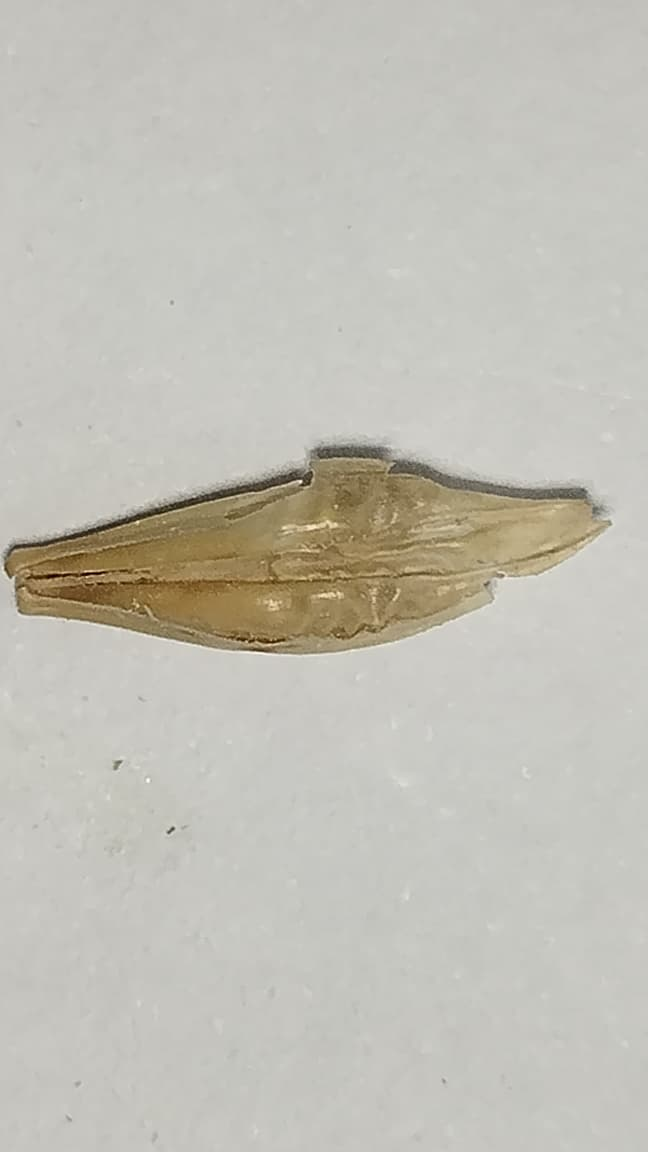healthy-70-60: (7, 460, 592, 652)
insectdamage: (473, 561, 525, 593)
shriveledseed: (273, 461, 461, 641)
